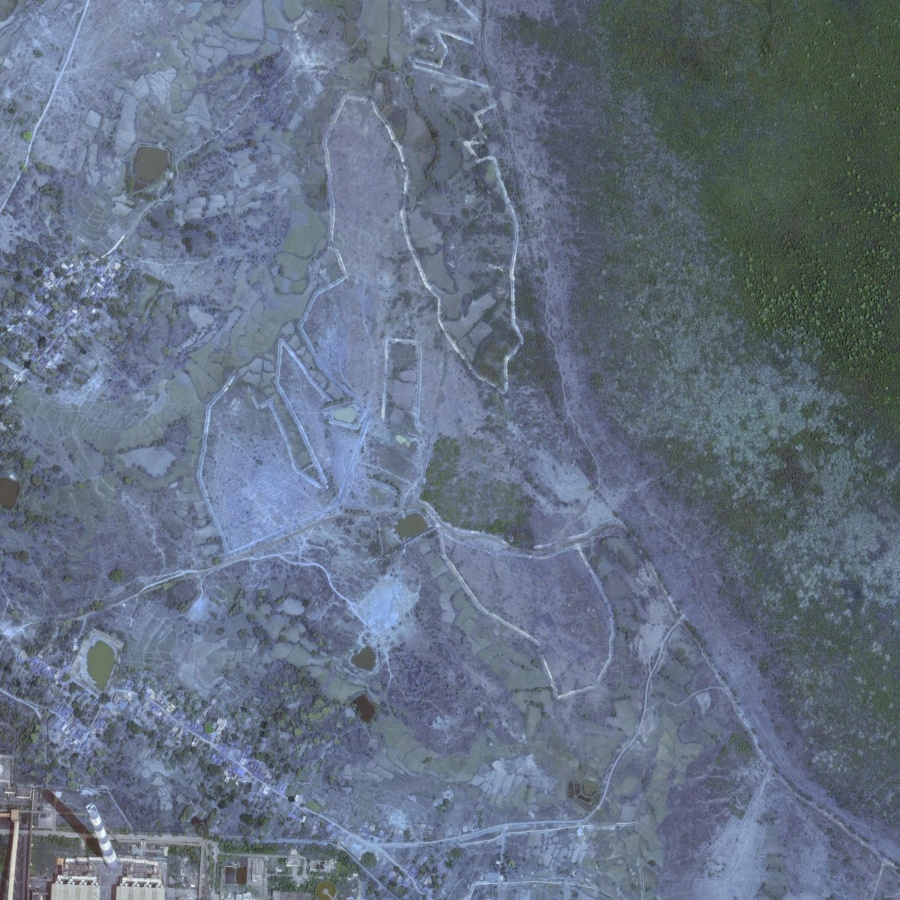PowerPlant: (17, 764, 171, 897)
